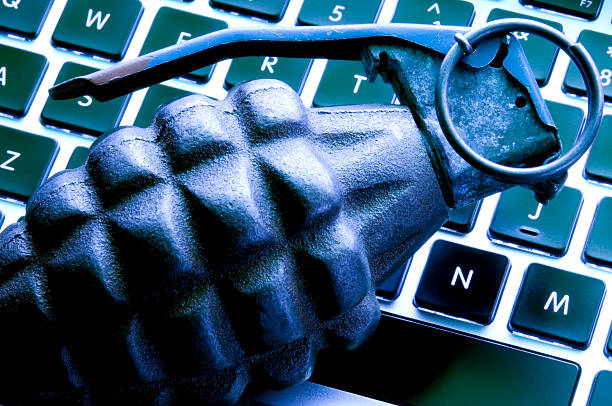e1: (4, 16, 605, 401)
